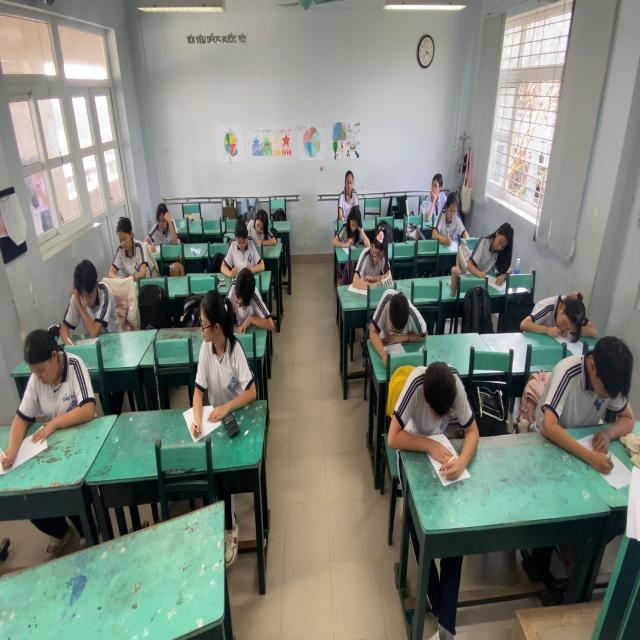cheating: (183, 281, 256, 402), (422, 160, 452, 222)
not_cheating: (529, 333, 640, 460), (10, 326, 100, 439), (386, 354, 476, 446), (520, 288, 596, 344), (59, 257, 115, 329), (226, 264, 271, 336), (368, 291, 426, 343), (109, 208, 150, 280), (351, 229, 397, 288), (222, 212, 265, 271), (471, 222, 514, 278), (142, 197, 177, 253), (248, 204, 279, 260), (331, 198, 360, 253), (337, 170, 366, 218), (438, 195, 467, 239)
